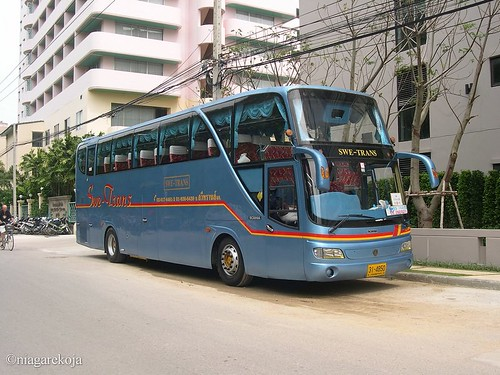bus: (72, 86, 414, 287)
